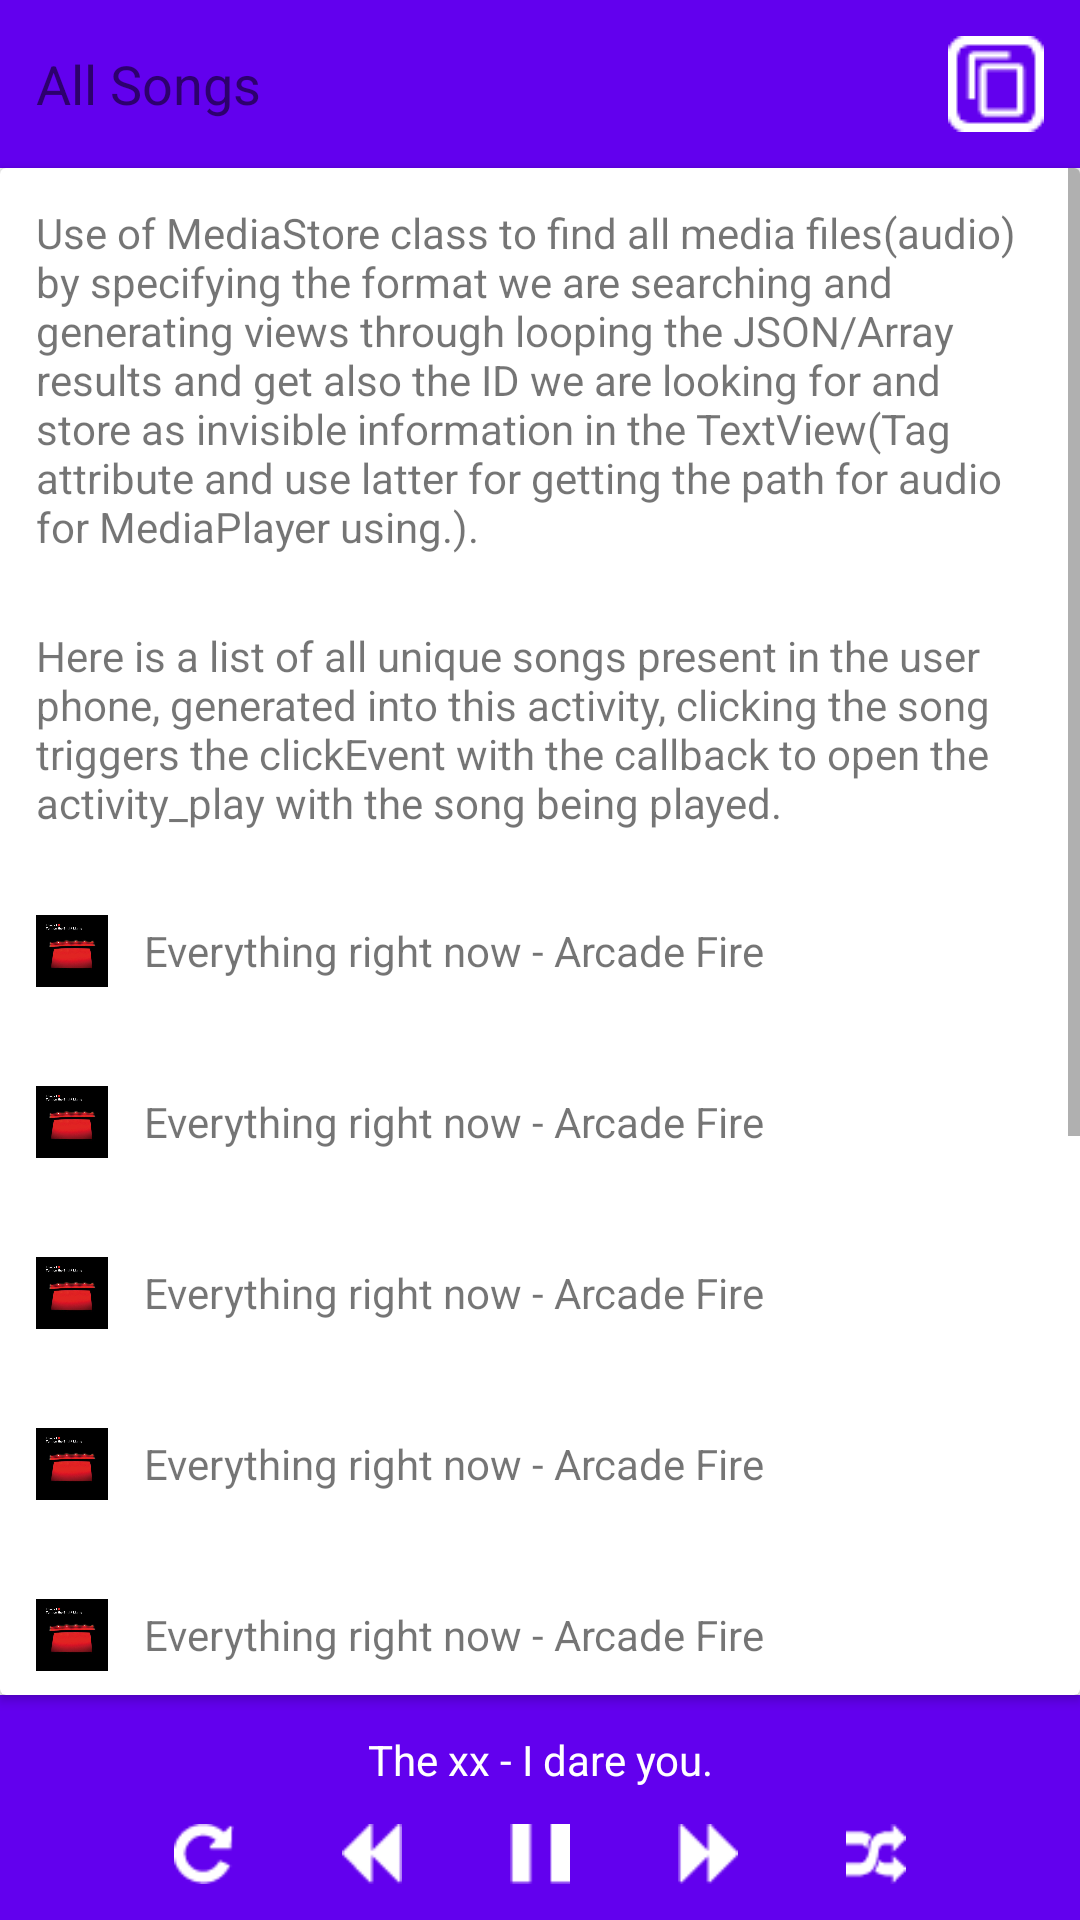

Screen size 1080*1920. Icon name, then its center in pixels as (x=x, y=y):
backward: (x=372, y=1854)
forward: (x=708, y=1854)
pause: (x=540, y=1854)
repeat: (x=204, y=1854)
shuffle: (x=876, y=1854)
